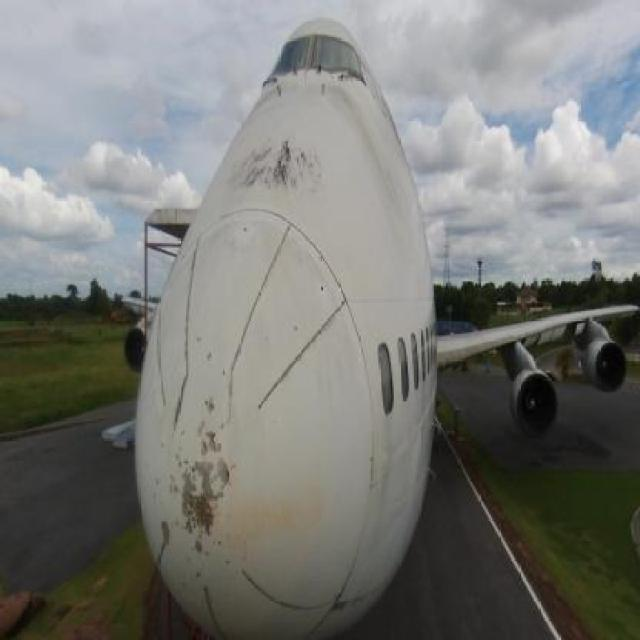Rust: (333, 92, 418, 246), (232, 133, 330, 219), (236, 487, 332, 548), (185, 484, 218, 544)
Scartch: (176, 442, 239, 558), (152, 515, 183, 560), (328, 588, 360, 620)
